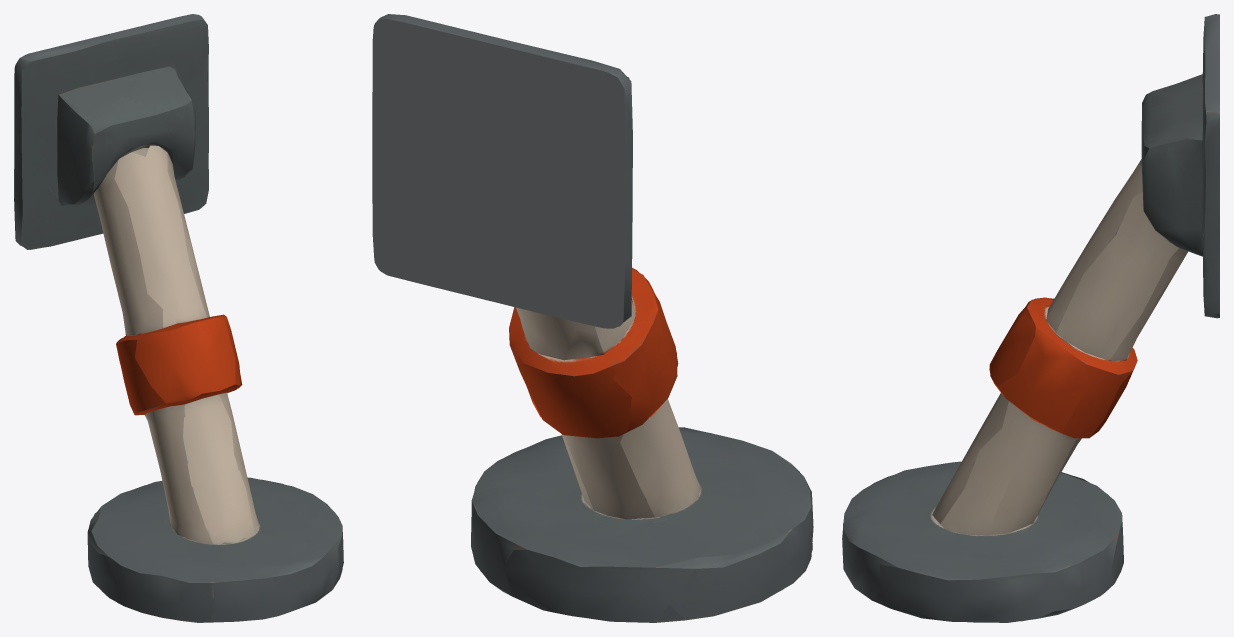
Rendered from landing_legs_mk1.glb.
3 views of the same model, side by side, from view 1: azimuth 30°, elevation 25°; view 2: azimuth 150°, elevation 25°; view 3: azimuth 270°, elevation 25° (orthographic). The views are drawn at different scales.
Visible parts, largest first — view 1: part; view 2: part; view 3: part.
Boxes of the visible parts, <box> form: part: <box>14,14,343,622</box>; part: <box>372,14,813,622</box>; part: <box>842,14,1219,622</box>.
Size of the model in its own units: 1.01 by 2 by 1.35.
2 materials, 1 textured.
